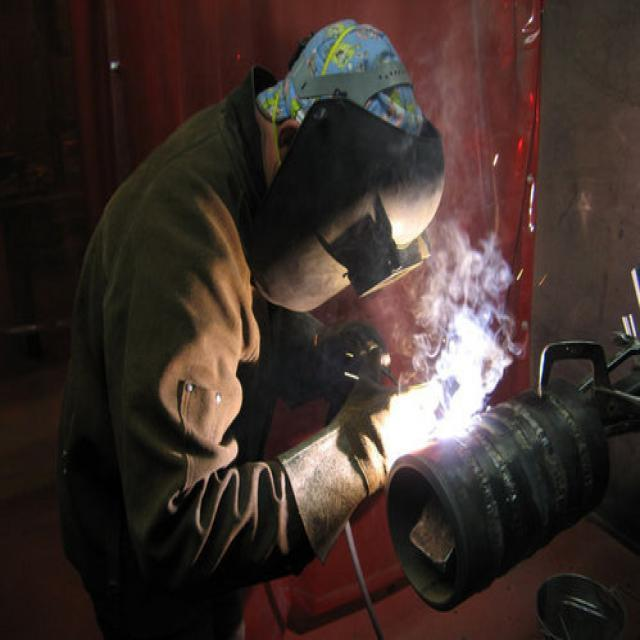with_helmet: (249, 100, 443, 311)
